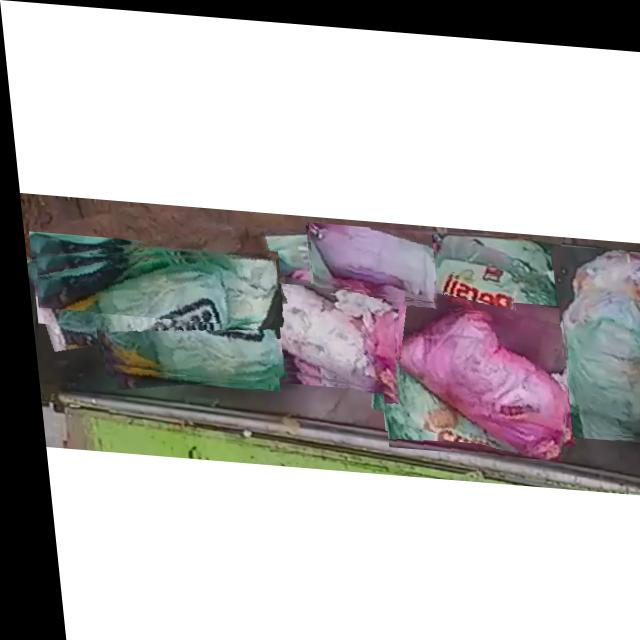general_trashbag: (85, 257, 274, 375), (30, 251, 271, 320), (557, 240, 640, 426), (437, 265, 507, 307)
other_trashbag: (373, 294, 559, 451), (264, 280, 386, 383), (309, 219, 430, 295)
